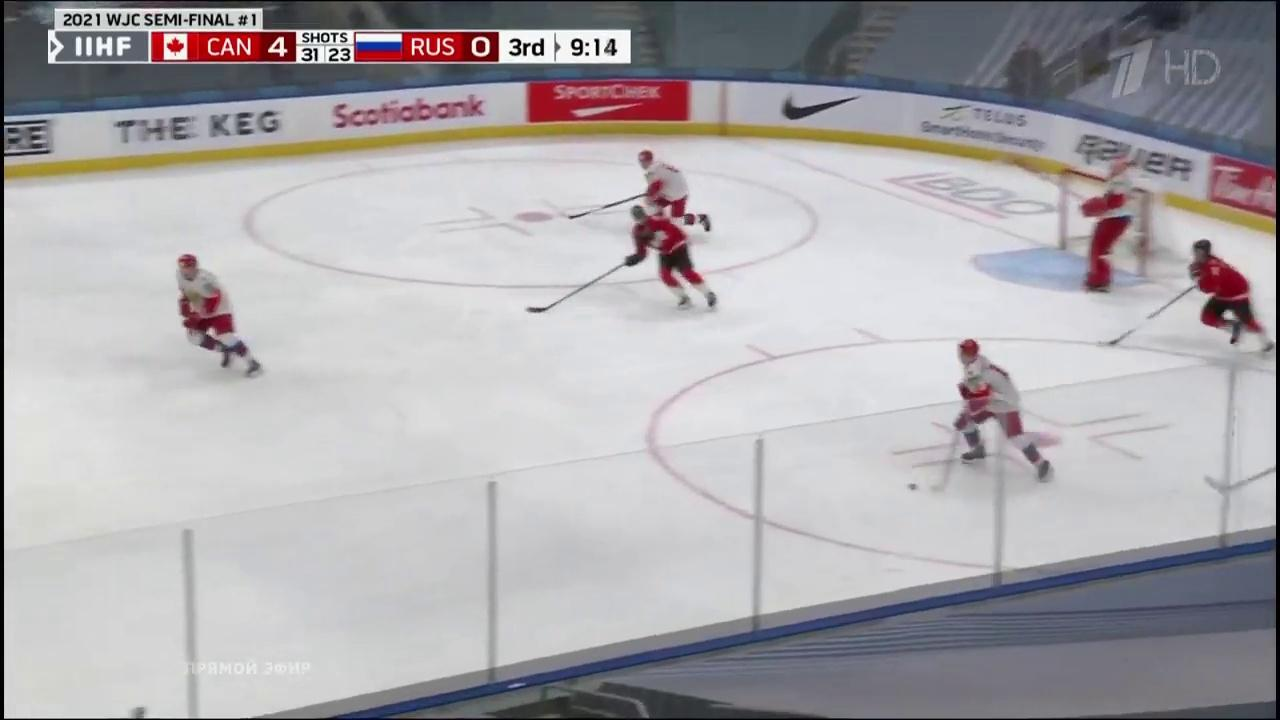ball: (908, 484, 917, 490)
